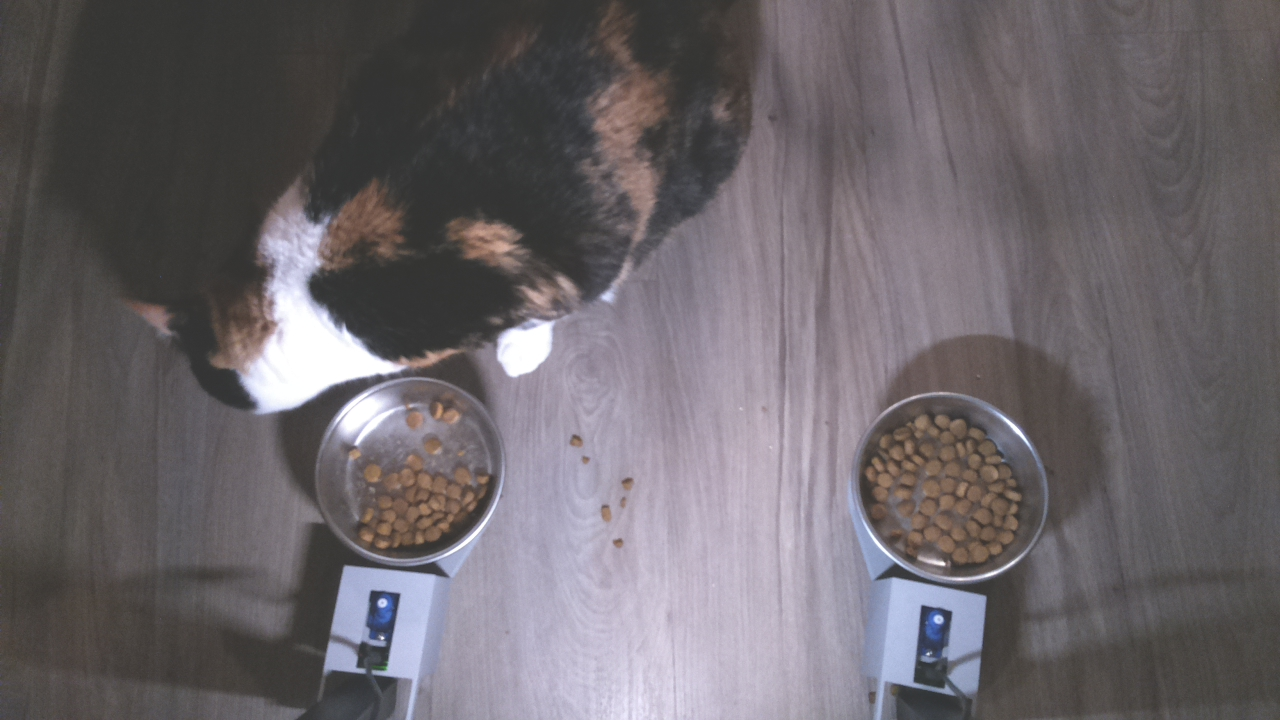bella: (104, 216, 382, 414)
open_bowl: (854, 390, 1057, 587), (305, 375, 504, 570)
